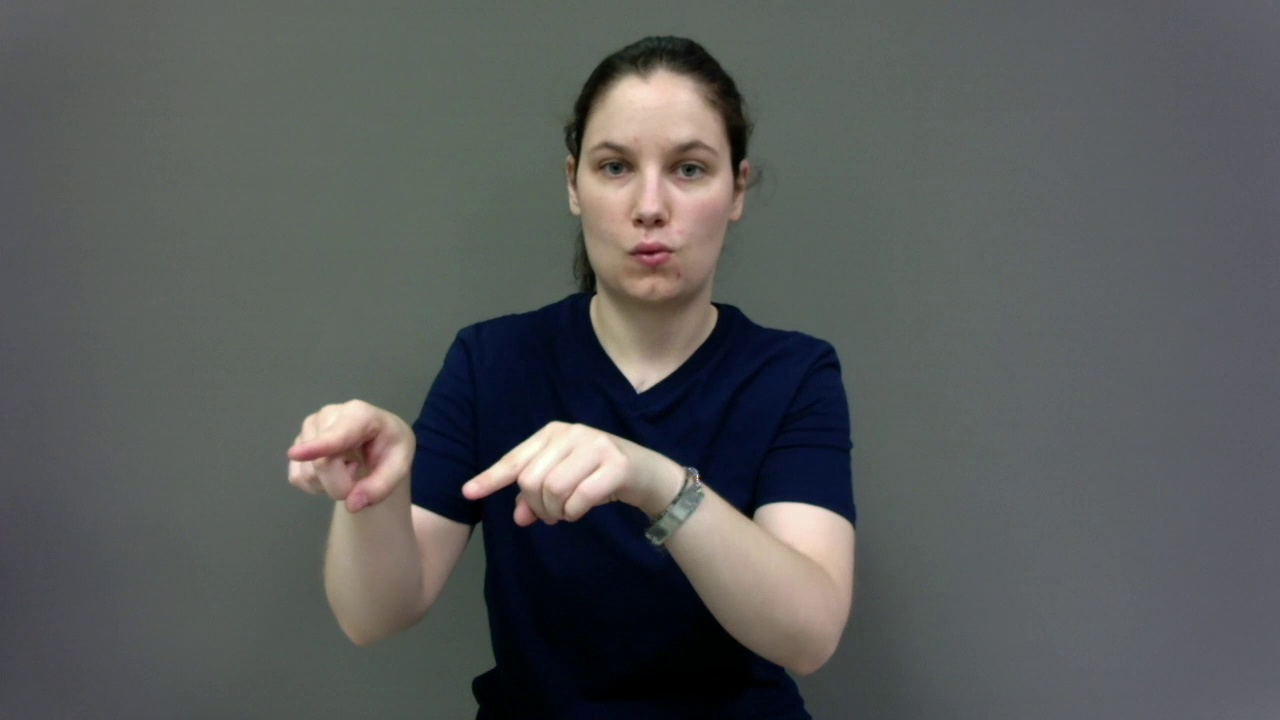go: (277, 398, 691, 533)
